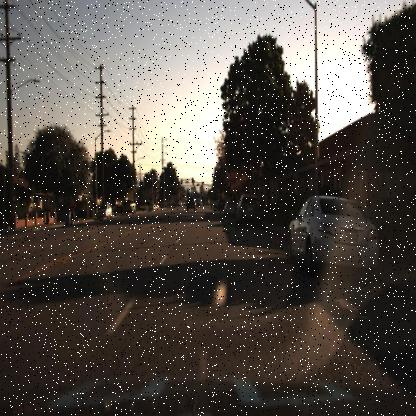car: (286, 195, 379, 281), (234, 190, 264, 224), (93, 200, 114, 225), (122, 195, 140, 215), (97, 202, 113, 220), (184, 196, 194, 212)
